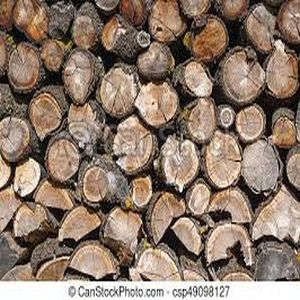log: (218, 47, 264, 104), (111, 117, 156, 172), (97, 62, 140, 117), (202, 132, 241, 187), (241, 141, 282, 193), (160, 137, 200, 186), (63, 50, 98, 101), (137, 84, 178, 127), (187, 18, 228, 60), (7, 44, 42, 93), (265, 51, 300, 99), (242, 5, 278, 51), (149, 1, 188, 42), (29, 92, 64, 136), (184, 98, 216, 143), (46, 139, 79, 182), (1, 116, 31, 161), (182, 58, 214, 98), (137, 43, 172, 78), (80, 165, 112, 202), (236, 106, 265, 141), (12, 159, 40, 195), (72, 14, 97, 52), (275, 112, 297, 146), (42, 39, 63, 73), (218, 107, 235, 130)
